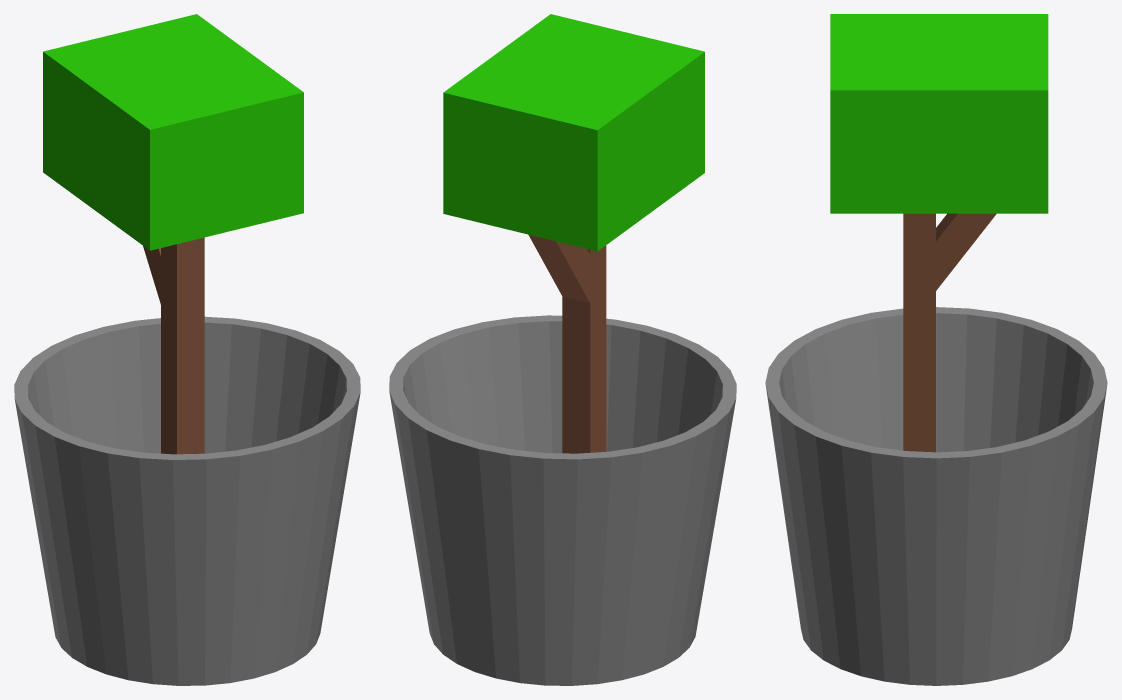
Rendered from Plant_Pot.fbx.
The picture shows the model from 3 angles, left to right: view 1: azimuth 30°, elevation 25°; view 2: azimuth 150°, elevation 25°; view 3: azimuth 270°, elevation 25°; orthographic projection.
Parts seen in each view (by area): view 1: Cylinder, Cube; view 2: Cylinder, Cube; view 3: Cylinder, Cube.
Part boxes in pixels (bbox=[...]): Cylinder: bbox=[14, 316, 360, 685]; Cube: bbox=[43, 14, 303, 454]; Cylinder: bbox=[389, 315, 736, 685]; Cube: bbox=[443, 14, 704, 453]; Cylinder: bbox=[765, 307, 1107, 685]; Cube: bbox=[830, 14, 1048, 452].
Size of the model in its own units: 264 by 464 by 252.
